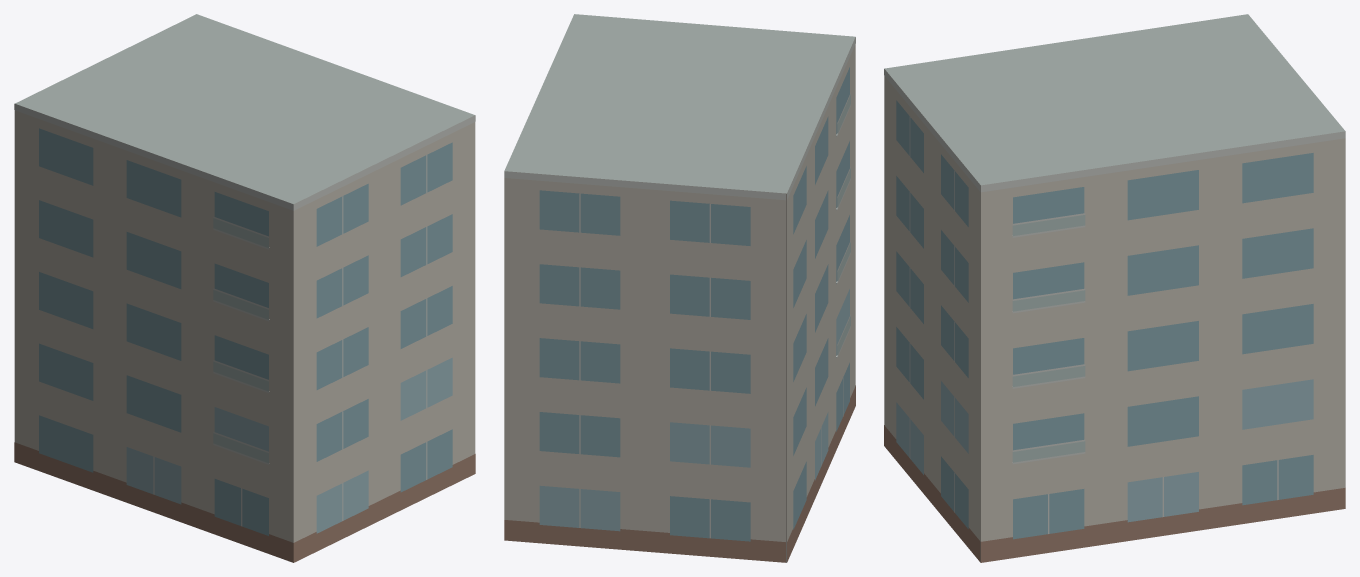
File: survey-upis-32987617.glb
The picture shows the model from 3 angles, left to right: view 1: azimuth 30°, elevation 25°; view 2: azimuth 150°, elevation 25°; view 3: azimuth 270°, elevation 25°; orthographic projection. The views are drawn at different scales.
Parts seen in each view (by area): view 1: survey-upis-32987617.tmp; view 2: survey-upis-32987617.tmp; view 3: survey-upis-32987617.tmp.
Part boxes in pixels (x1,y1,x2,y2): survey-upis-32987617.tmp: (14, 14, 475, 562); survey-upis-32987617.tmp: (504, 14, 855, 562); survey-upis-32987617.tmp: (884, 14, 1345, 562).
Bounding box in the file's own units: 12.86 × 13.2 × 14.63.
